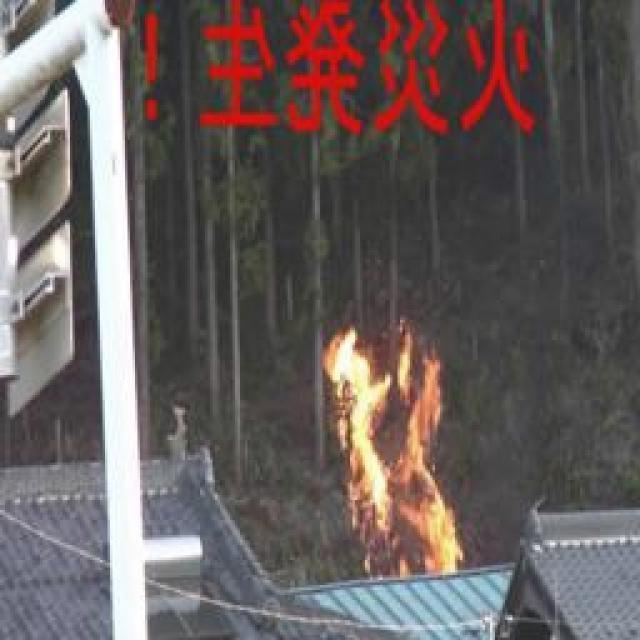Fire: (305, 328, 461, 580)
